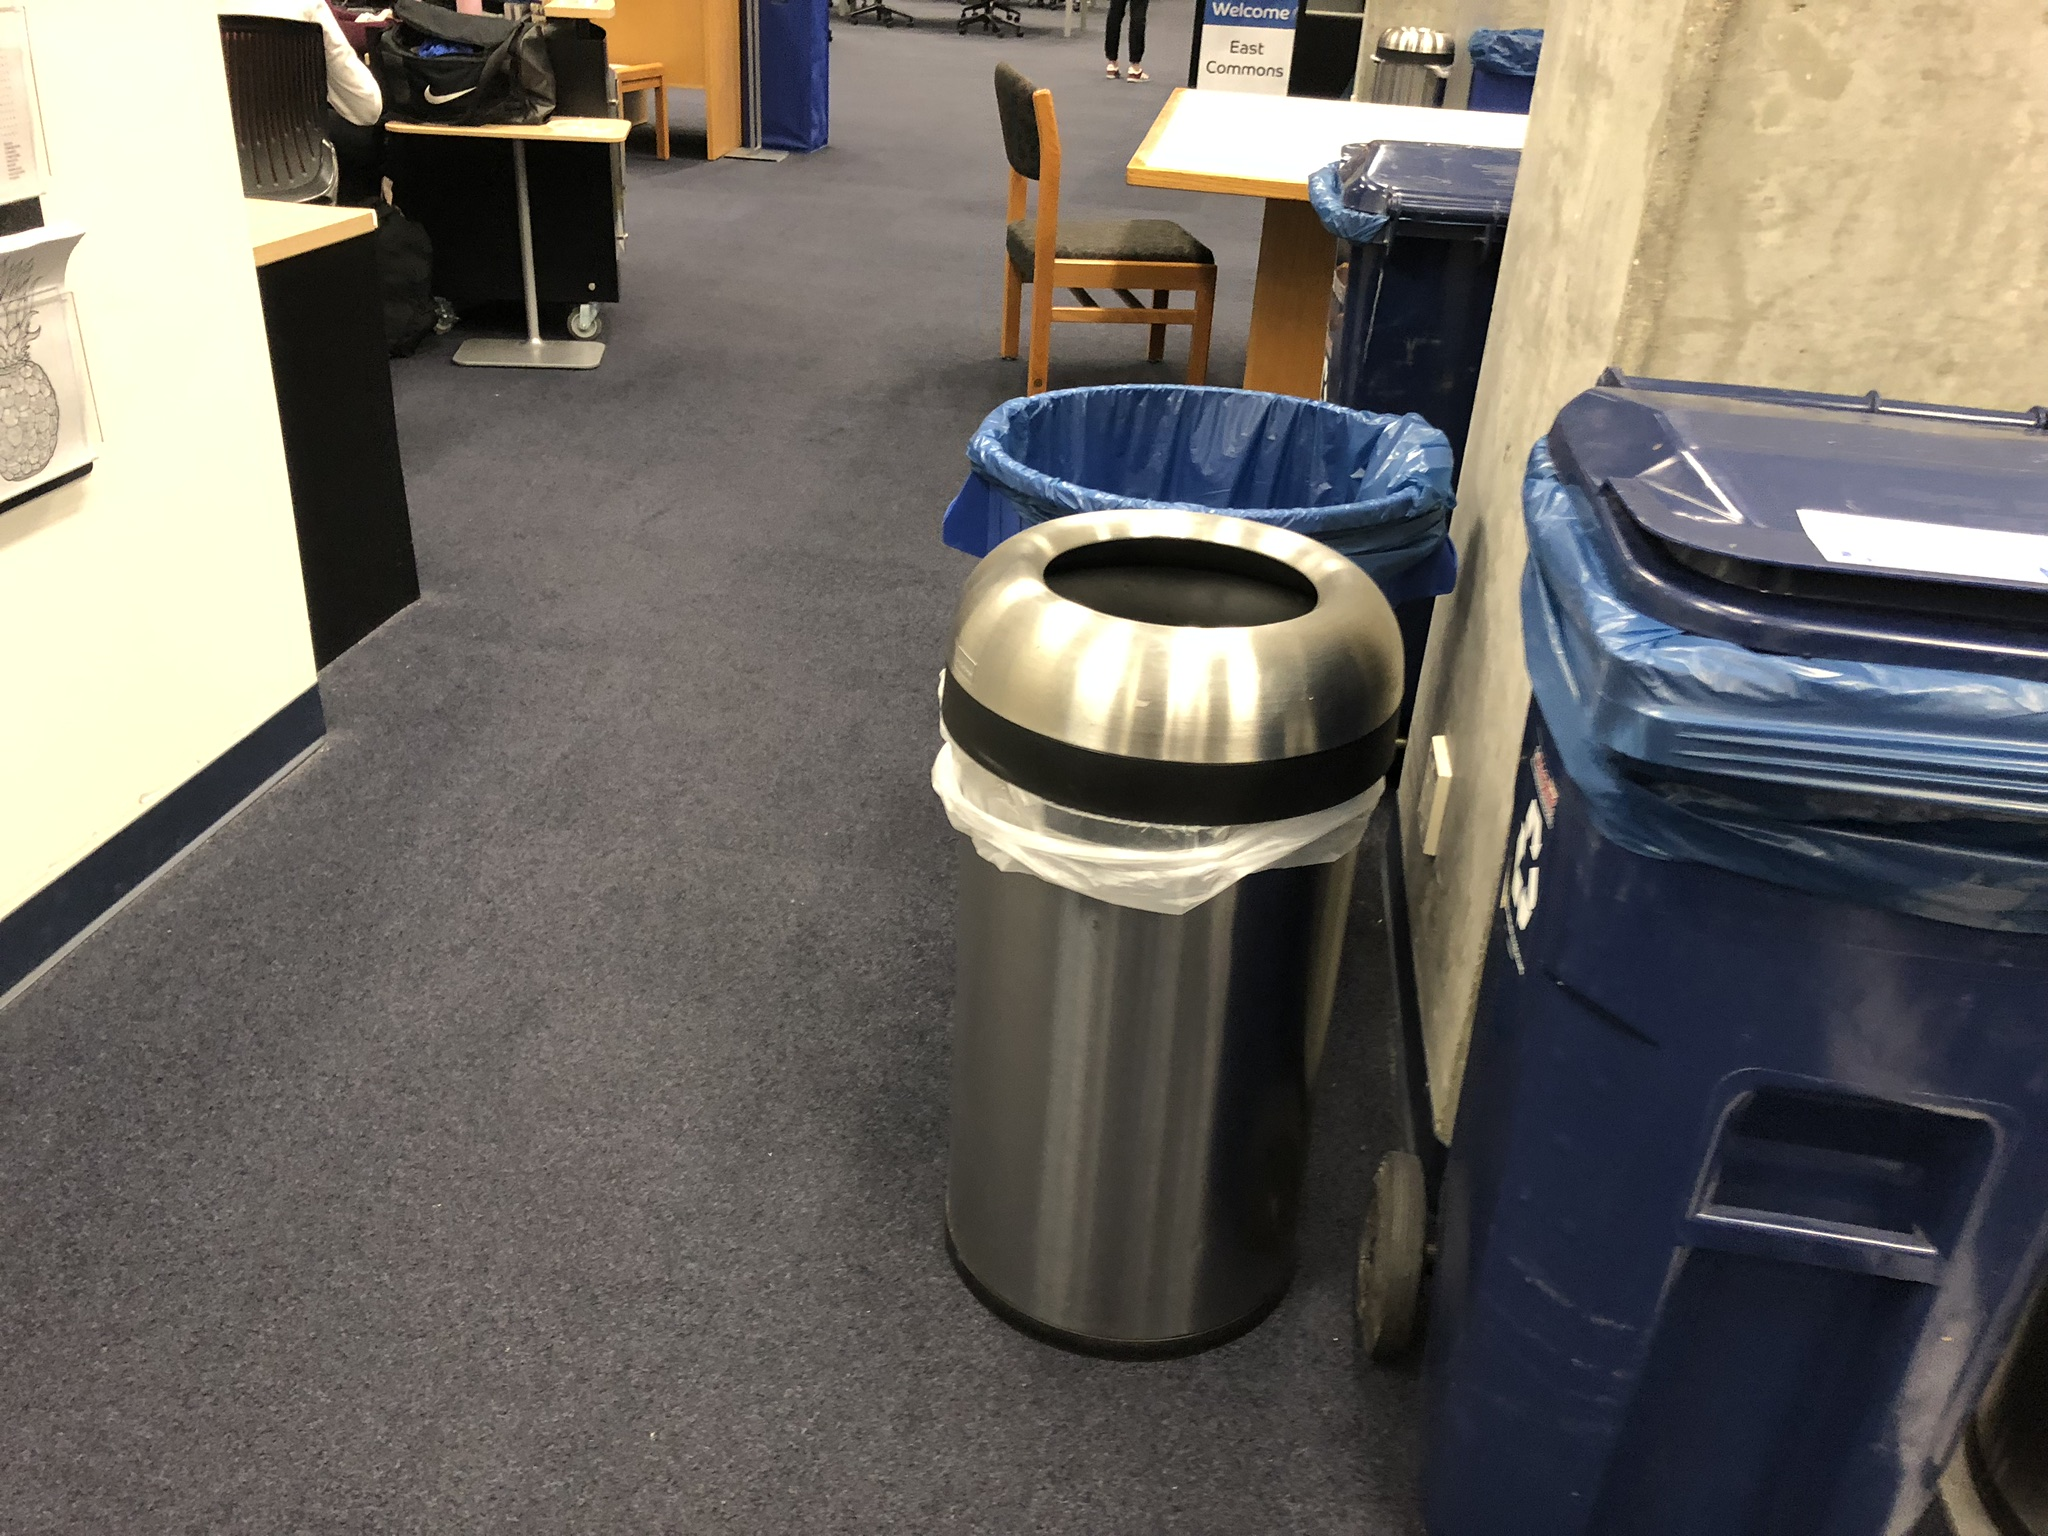Obstacle: (1384, 3, 2048, 1531), (892, 382, 1480, 1357), (3, 3, 421, 1004), (224, 3, 629, 373), (990, 66, 1213, 386)
